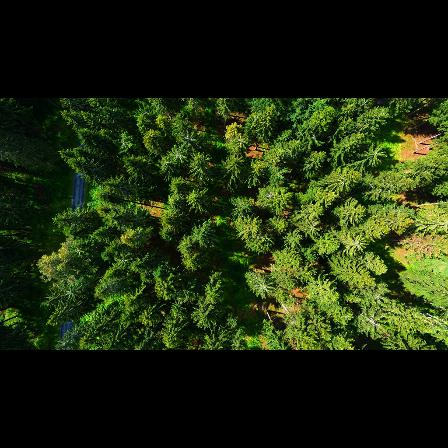Sick: (355, 310, 391, 340), (337, 232, 372, 256), (165, 143, 188, 168)
